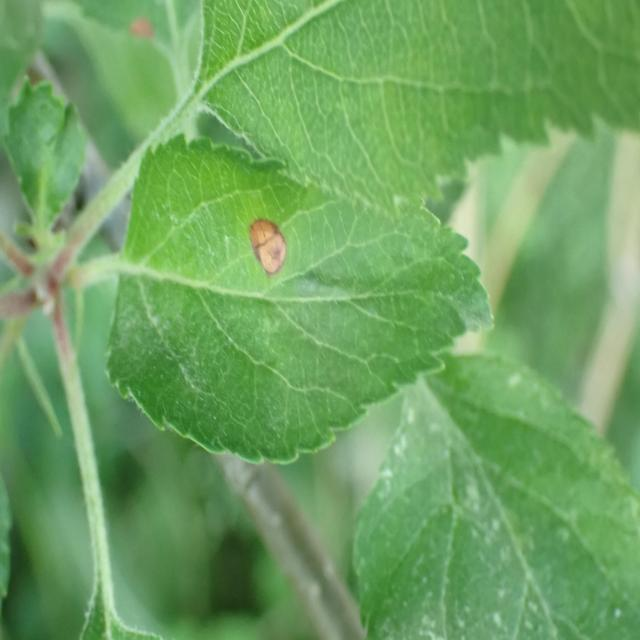Black Rot: (229, 204, 289, 282)
